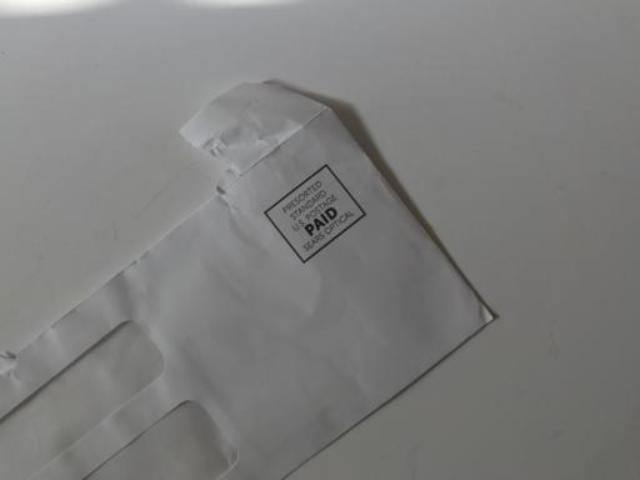cardboard paper: (0, 81, 494, 476)
